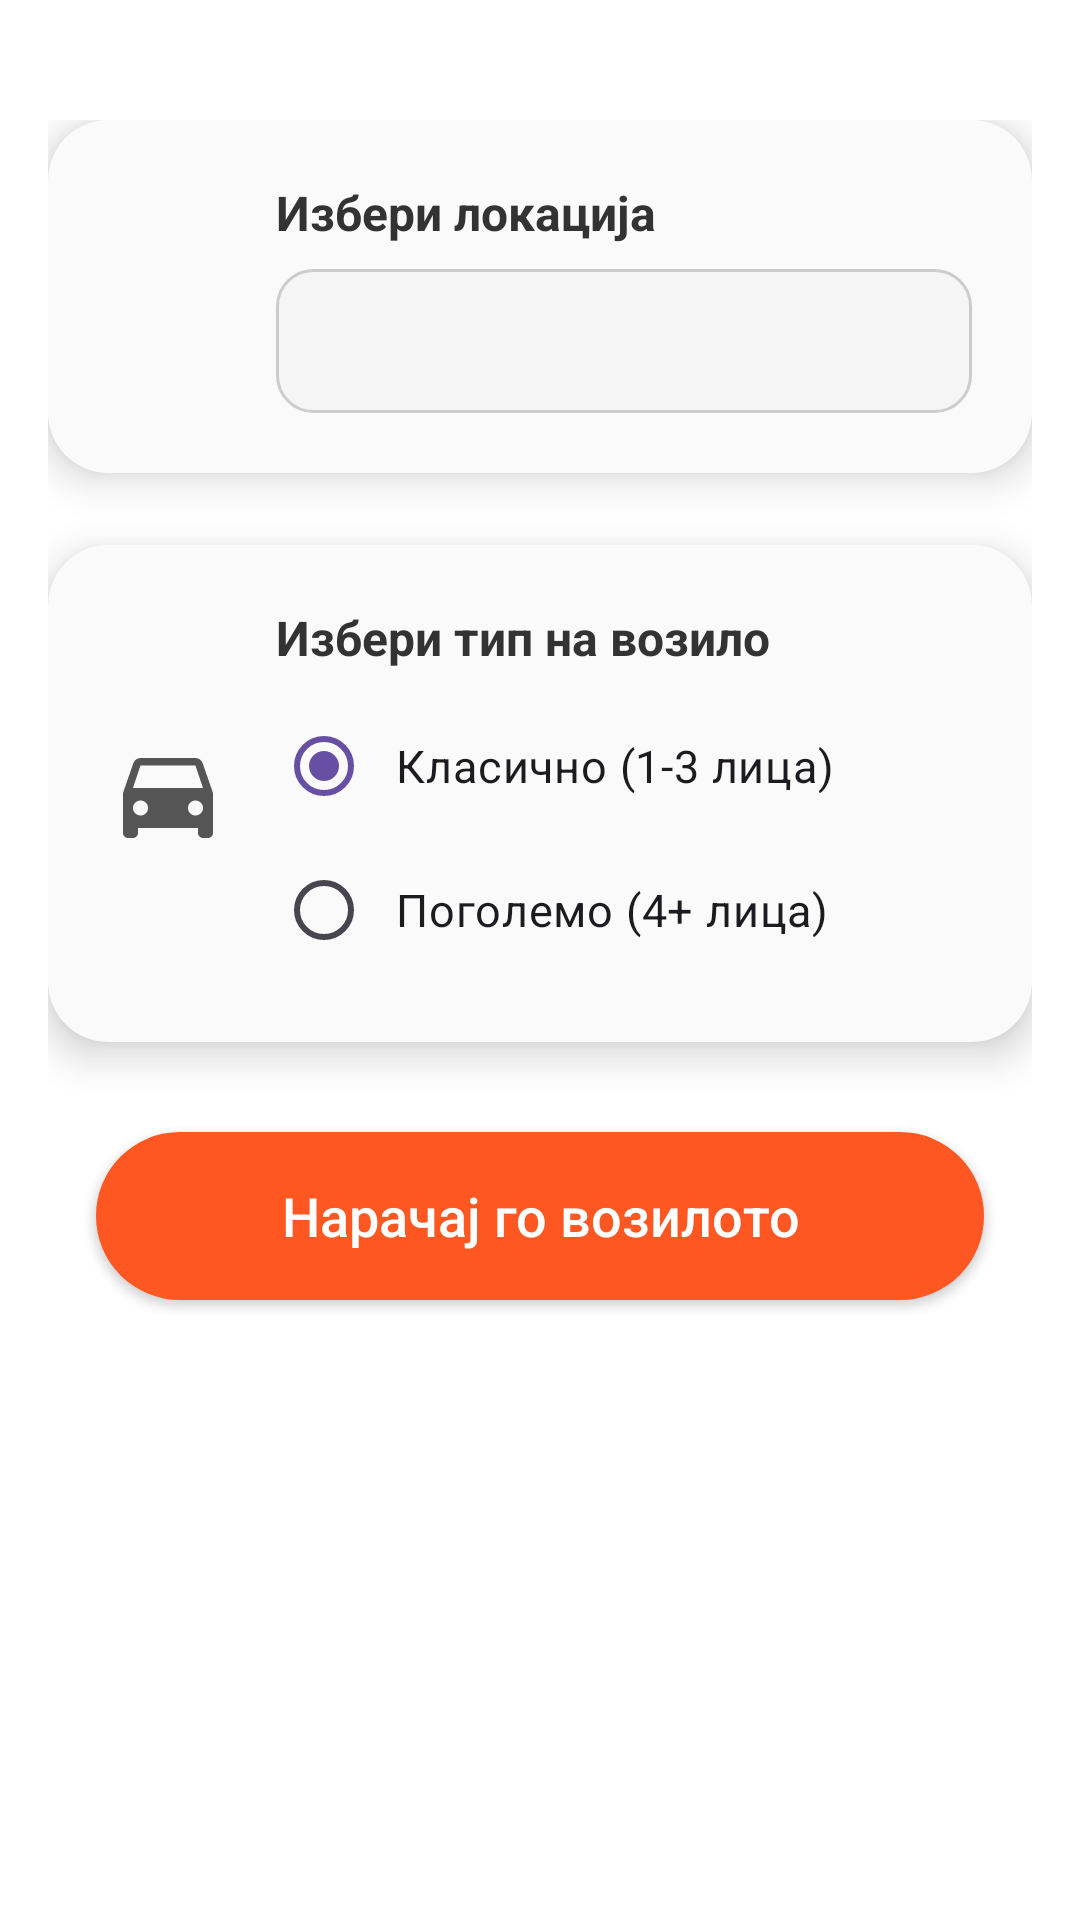

Where to tap for icons on this 1080x1920 app screen, as (x,y):
Икона за возило: (168,798)
